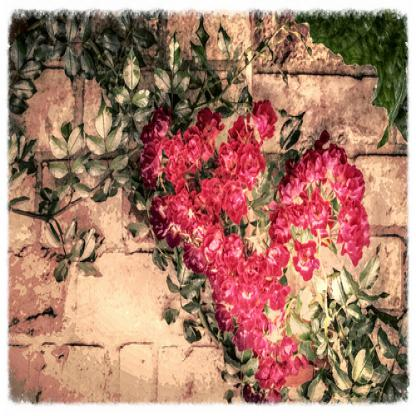Rose-Mawar: (143, 103, 372, 370)
